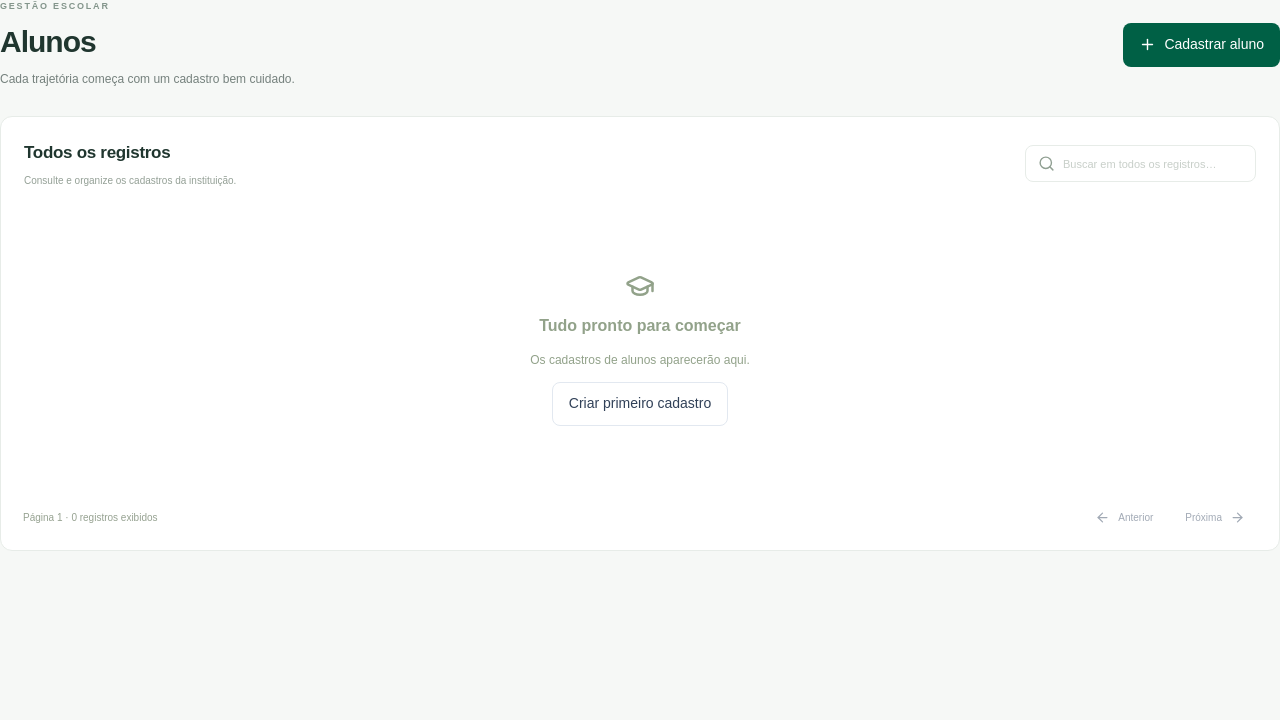
Test case: Cadastro integrado à API › envia cadastro e preserva mensagem de validação do servidor
Expected: the heading "Tudo pronto para começar" is shown, [539,314,741,338]
Click the button "Cadastrar aluno" at (1202, 45), box [1123,23,1279,67]
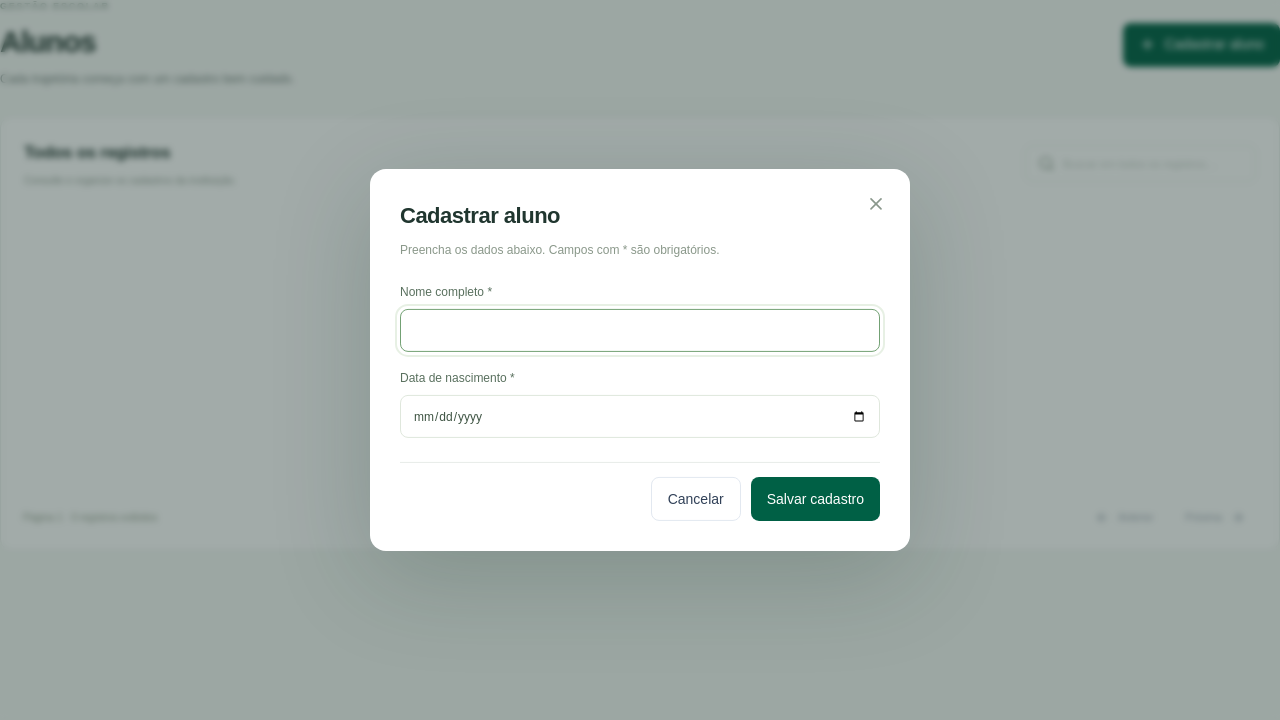
Type "Aluno de Teste" into the field labelled "Nome completo *" at (640, 331), box [400,309,880,352]
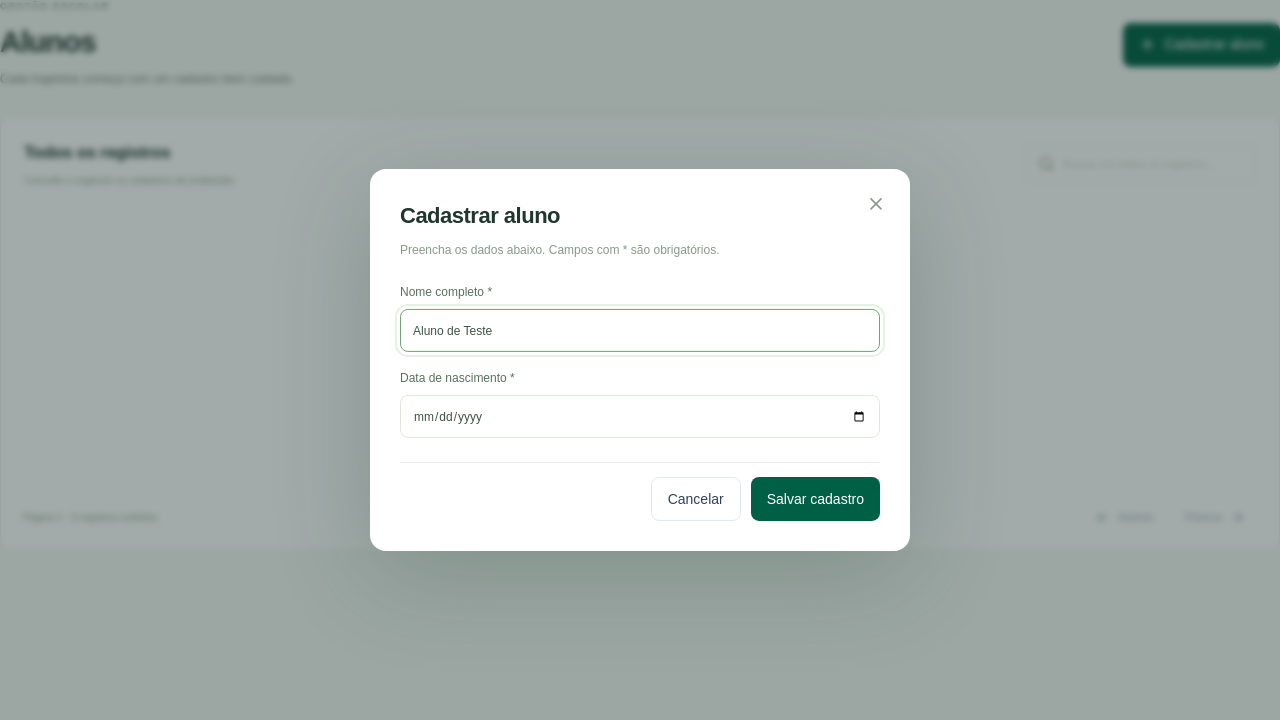
Type "2015-02-01" into the date field labelled "Data de nascimento *" at (640, 417), box [400,395,880,438]
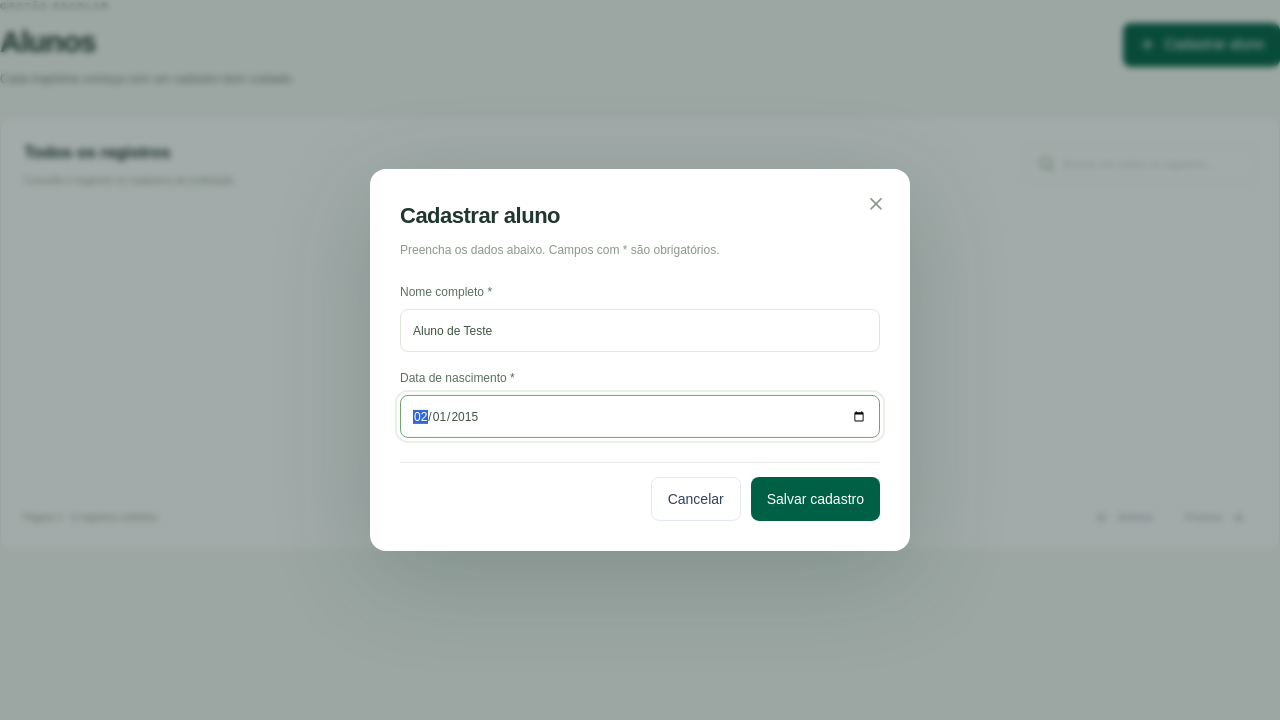
Click the button "Salvar cadastro" at (815, 499), box [751,477,880,521]
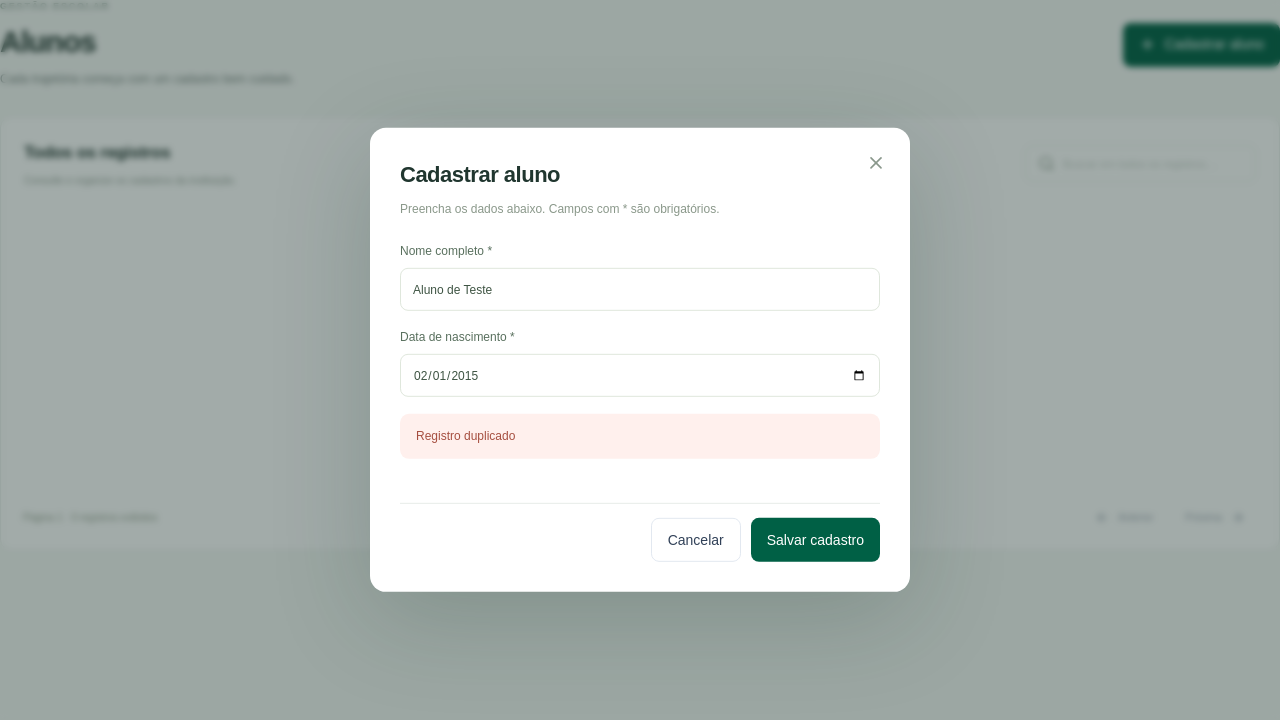
Expected: the dialog is shown, [370,128,910,592]
Expected: the message reads "Registro duplicado", [416,429,515,443]
Click the button "Salvar cadastro" at (815, 540), box [751,518,880,562]
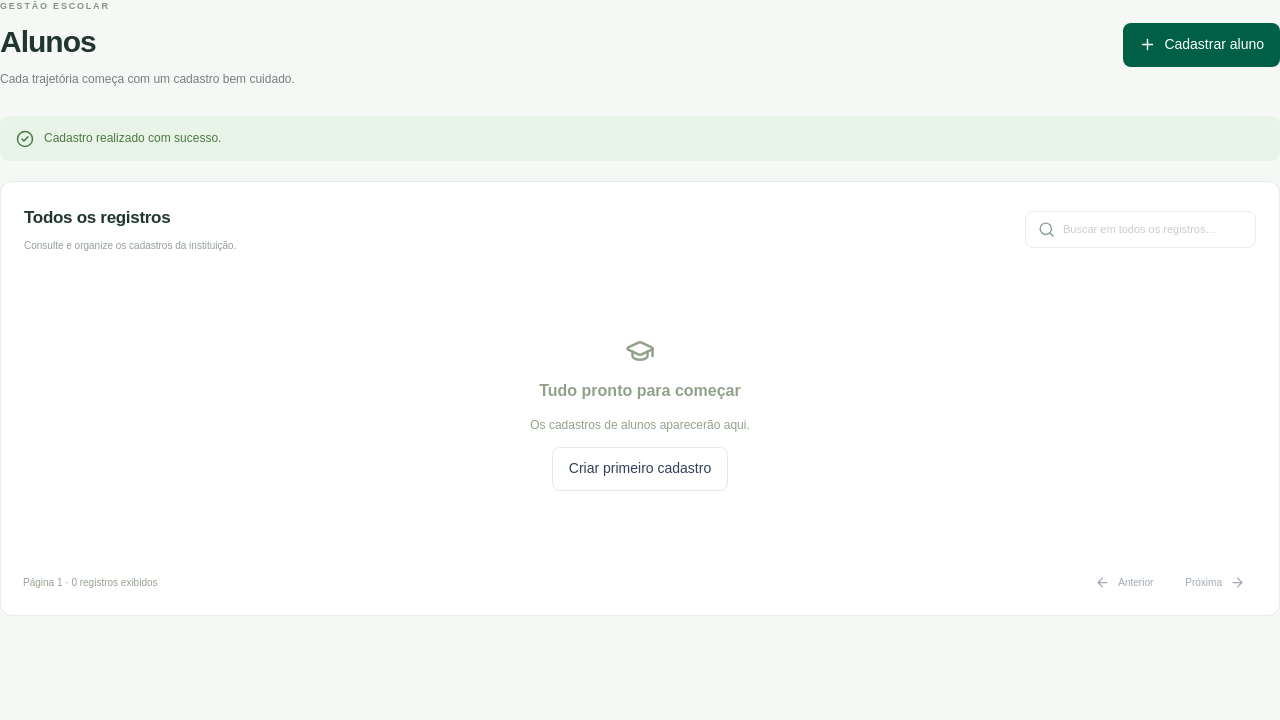
Expected: the dialog is gone
Expected: the text "Cadastro realizado com sucesso." is shown, [0,116,1279,161]
